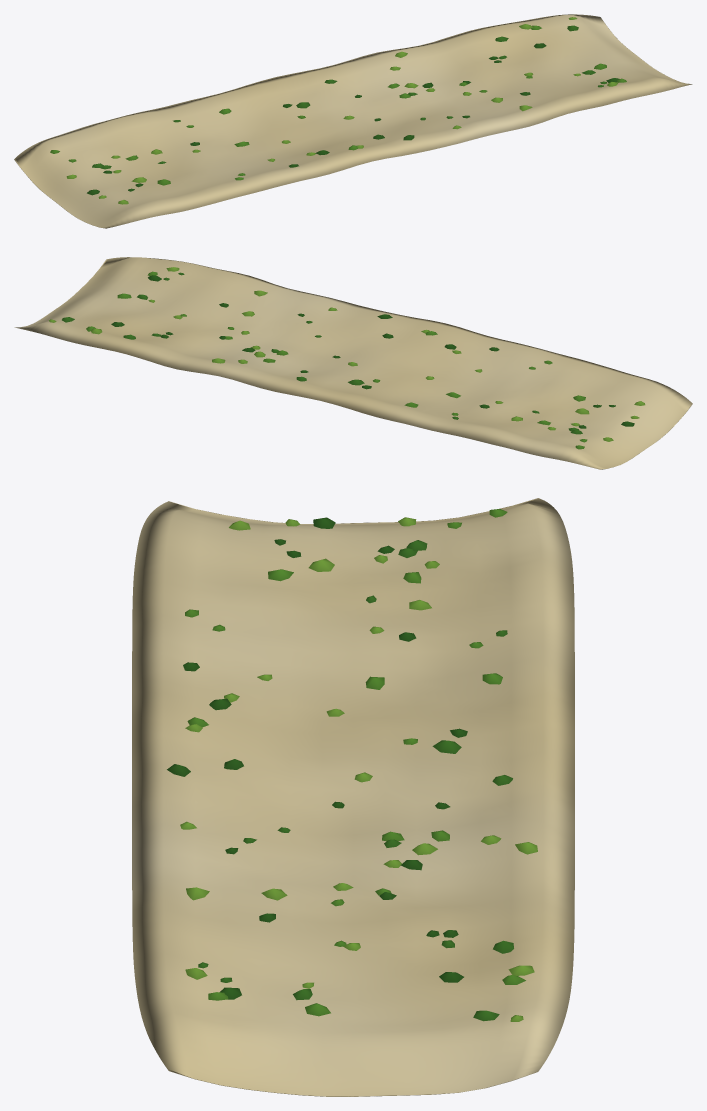
Rendered from dog-pasta.glb.
3 views of the same model, one above another, from view 1: azimuth 30°, elevation 25°; view 2: azimuth 150°, elevation 25°; view 3: azimuth 270°, elevation 25° (orthographic). The views are drawn at different scales.
Parts seen in each view (by area): view 1: dog_pasta_alho; view 2: dog_pasta_alho; view 3: dog_pasta_alho.
Boxes of the visible parts, <box> form: dog_pasta_alho: <box>14,14,692,228</box>; dog_pasta_alho: <box>14,257,692,469</box>; dog_pasta_alho: <box>132,498,574,1096</box>.
Bounding box in the file's own units: 0.196 × 0.00924 × 0.064.
